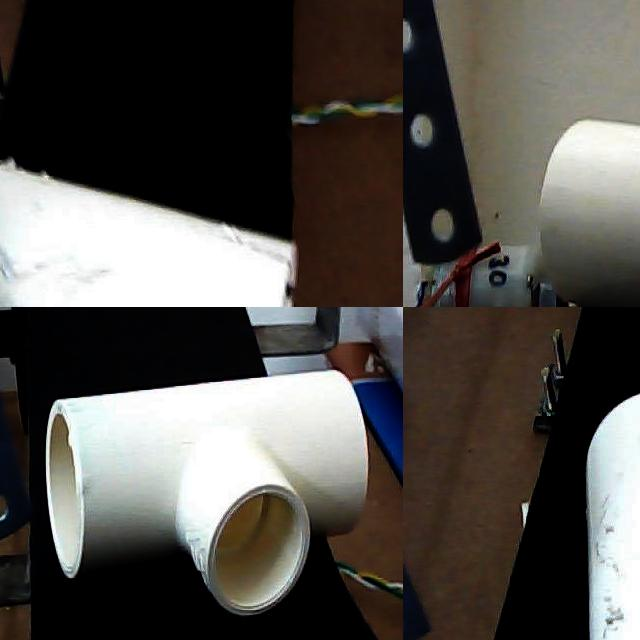Defective: (151, 210, 298, 307), (0, 186, 58, 307), (623, 390, 640, 486)
T Joint: (42, 366, 369, 618), (0, 160, 295, 307), (540, 121, 640, 307)
